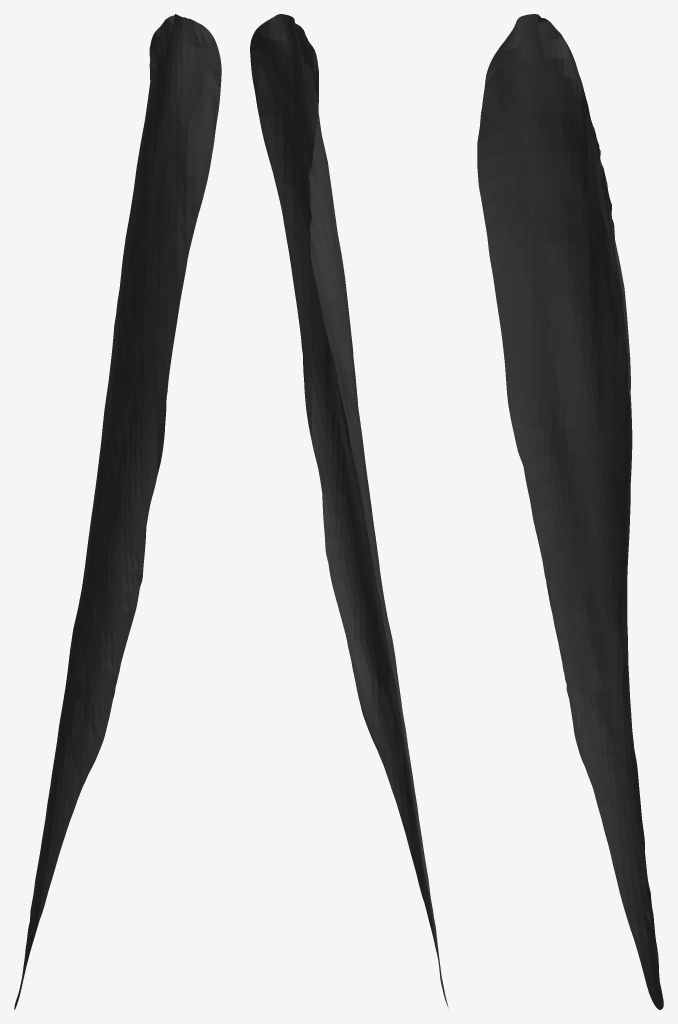
Rendered from ECR.glb.
The picture shows the model from 3 angles, left to right: view 1: azimuth 30°, elevation 25°; view 2: azimuth 210°, elevation 25°; view 3: azimuth 270°, elevation 25°; orthographic projection. The views are drawn at different scales.
Parts seen in each view (by area): view 1: ECR; view 2: ECR; view 3: ECR.
Boxes of the visible parts, x1,y1,x2,y2 form: ECR: (14, 14, 221, 1009); ECR: (250, 14, 448, 1007); ECR: (477, 14, 663, 1009).
Bounding box in the file's own units: 0.0377 × 0.2909 × 0.047.
Materials: 1 (1 with a texture image).
